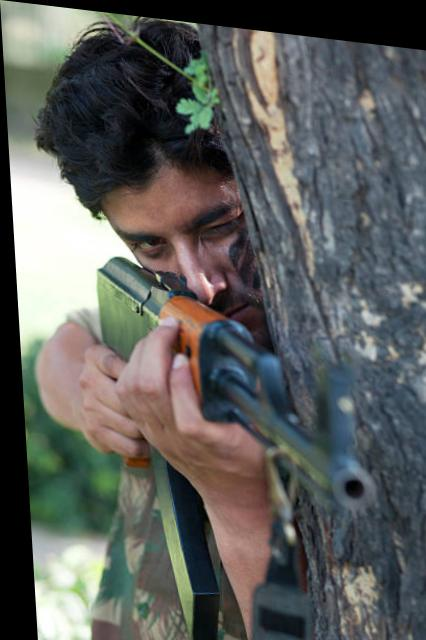other: (12, 29, 290, 637)
